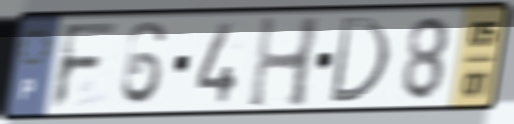4: (193, 19, 241, 107)
6: (118, 19, 171, 110)
8: (400, 13, 454, 104)
D: (325, 14, 394, 106)
F: (47, 19, 123, 112)
H: (244, 13, 324, 112)
